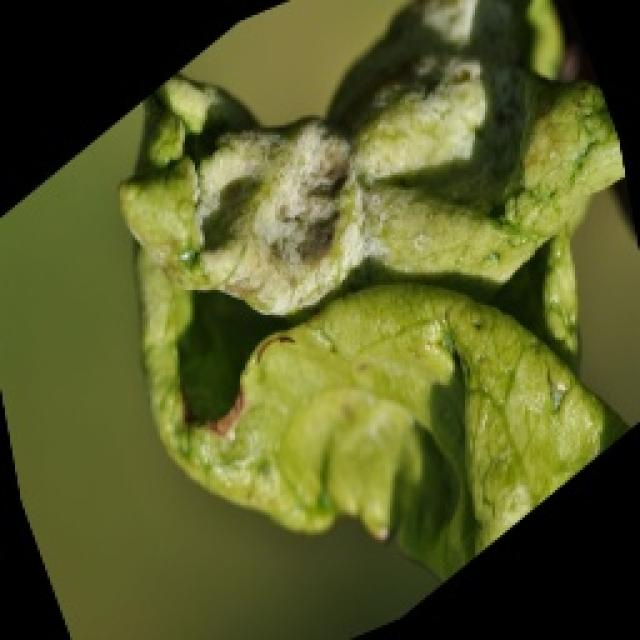peach_leaf_curl: (115, 0, 635, 580)
